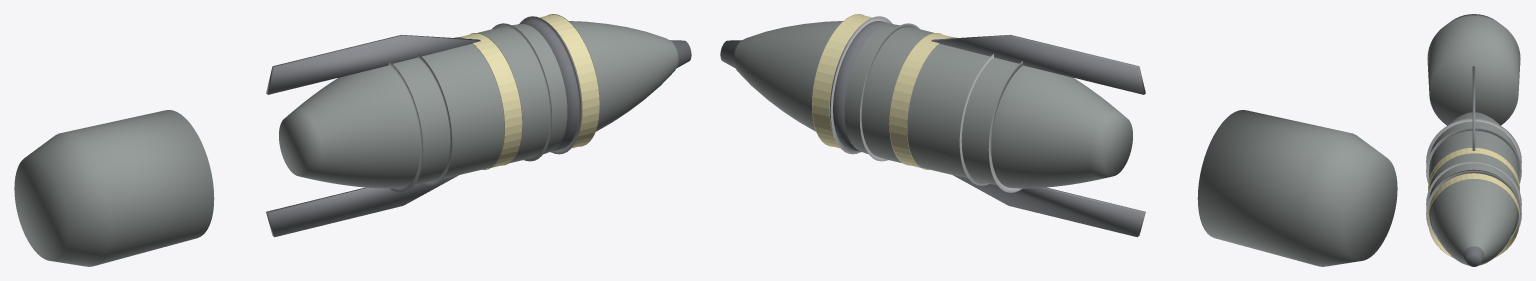
File: US_SLBM_Trident_C4_LOD0.fbx
3 views of the same model, side by side, from view 1: azimuth 30°, elevation 25°; view 2: azimuth 150°, elevation 25°; view 3: azimuth 270°, elevation 25° (orthographic). The views are drawn at different scales.
Visible parts, largest first — view 1: WPN_US_SLBM_Trident_C4_LOD0_Body, WPN_US_SLBM_Trident_C4_LOD0_Tail, WPN_US_SLBM_Trident_C4_LOD0_Detail, WPN_US_SLBM_Trident_C4_LOD0_Marking, WPN_US_SLBM_Trident_C4_LOD0_Nose; view 2: WPN_US_SLBM_Trident_C4_LOD0_Body, WPN_US_SLBM_Trident_C4_LOD0_Tail, WPN_US_SLBM_Trident_C4_LOD0_Detail, WPN_US_SLBM_Trident_C4_LOD0_Marking, WPN_US_SLBM_Trident_C4_LOD0_Nose; view 3: WPN_US_SLBM_Trident_C4_LOD0_Body, WPN_US_SLBM_Trident_C4_LOD0_Tail, WPN_US_SLBM_Trident_C4_LOD0_Detail, WPN_US_SLBM_Trident_C4_LOD0_Marking, WPN_US_SLBM_Trident_C4_LOD0_Nose.
Part boxes in pixels (bbox=[...]): WPN_US_SLBM_Trident_C4_LOD0_Body: bbox=[279, 21, 678, 188]; WPN_US_SLBM_Trident_C4_LOD0_Tail: bbox=[14, 110, 214, 266]; WPN_US_SLBM_Trident_C4_LOD0_Detail: bbox=[266, 16, 581, 237]; WPN_US_SLBM_Trident_C4_LOD0_Marking: bbox=[454, 14, 599, 169]; WPN_US_SLBM_Trident_C4_LOD0_Nose: bbox=[518, 21, 691, 151]; WPN_US_SLBM_Trident_C4_LOD0_Body: bbox=[733, 21, 1132, 188]; WPN_US_SLBM_Trident_C4_LOD0_Tail: bbox=[1197, 110, 1397, 266]; WPN_US_SLBM_Trident_C4_LOD0_Detail: bbox=[830, 16, 1145, 237]; WPN_US_SLBM_Trident_C4_LOD0_Marking: bbox=[812, 14, 957, 169]; WPN_US_SLBM_Trident_C4_LOD0_Nose: bbox=[720, 21, 893, 151]; WPN_US_SLBM_Trident_C4_LOD0_Body: bbox=[1428, 112, 1519, 265]; WPN_US_SLBM_Trident_C4_LOD0_Tail: bbox=[1427, 14, 1520, 125]; WPN_US_SLBM_Trident_C4_LOD0_Detail: bbox=[1426, 66, 1521, 241]; WPN_US_SLBM_Trident_C4_LOD0_Marking: bbox=[1428, 147, 1519, 257]; WPN_US_SLBM_Trident_C4_LOD0_Nose: bbox=[1429, 169, 1518, 266].
Size of the model in its own units: 10.4 by 1.97 by 2.61.
